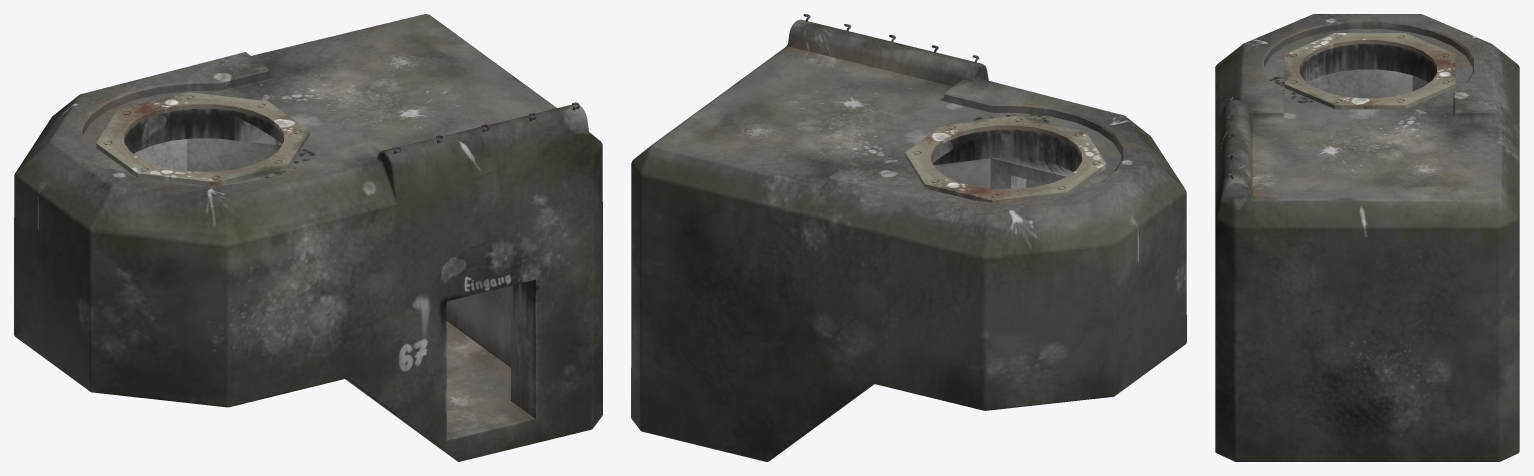
File: bunker2.fbx
3 views of the same model, side by side, from view 1: azimuth 30°, elevation 25°; view 2: azimuth 150°, elevation 25°; view 3: azimuth 270°, elevation 25° (orthographic). The views are drawn at different scales.
Parts seen in each view (by area): view 1: bunker2, bunker2_details; view 2: bunker2, bunker2_details; view 3: bunker2, bunker2_details.
Boxes of the visible parts, x1,y1,x2,y2 form: bunker2: (14, 14, 602, 461); bunker2_details: (96, 92, 579, 185); bunker2: (631, 19, 1186, 461); bunker2_details: (803, 14, 1106, 202); bunker2: (1215, 14, 1519, 461); bunker2_details: (1227, 33, 1455, 178).
Size of the model in its own units: 488 by 317 by 315.
2 materials, 2 textured.
